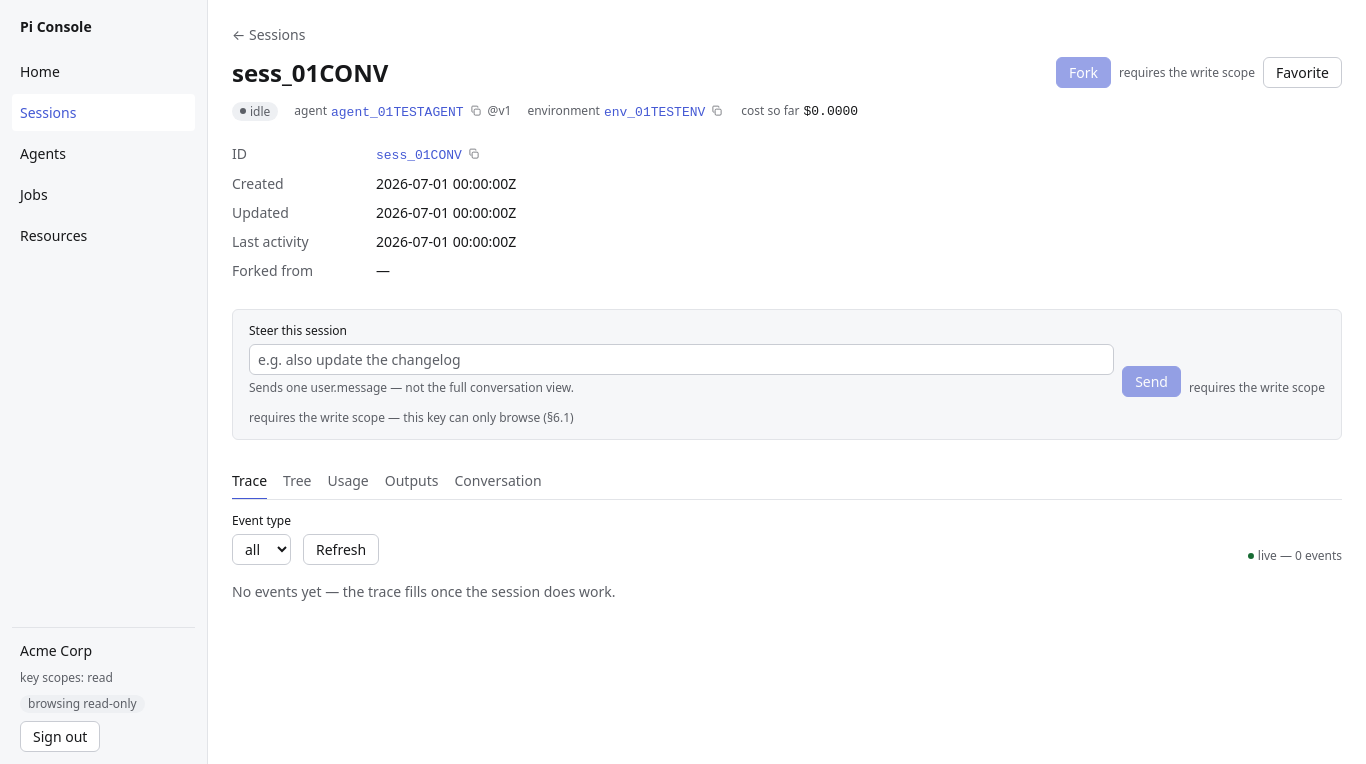
empty and edge states › long transcripts start at the tail with a show-all control
Expected: the element named "Session detail" is shown, left=232, top=464, right=1342, bottom=500
Click the tab "Conversation" at {"x": 498, "y": 482}, box left=454, top=464, right=542, bottom=500
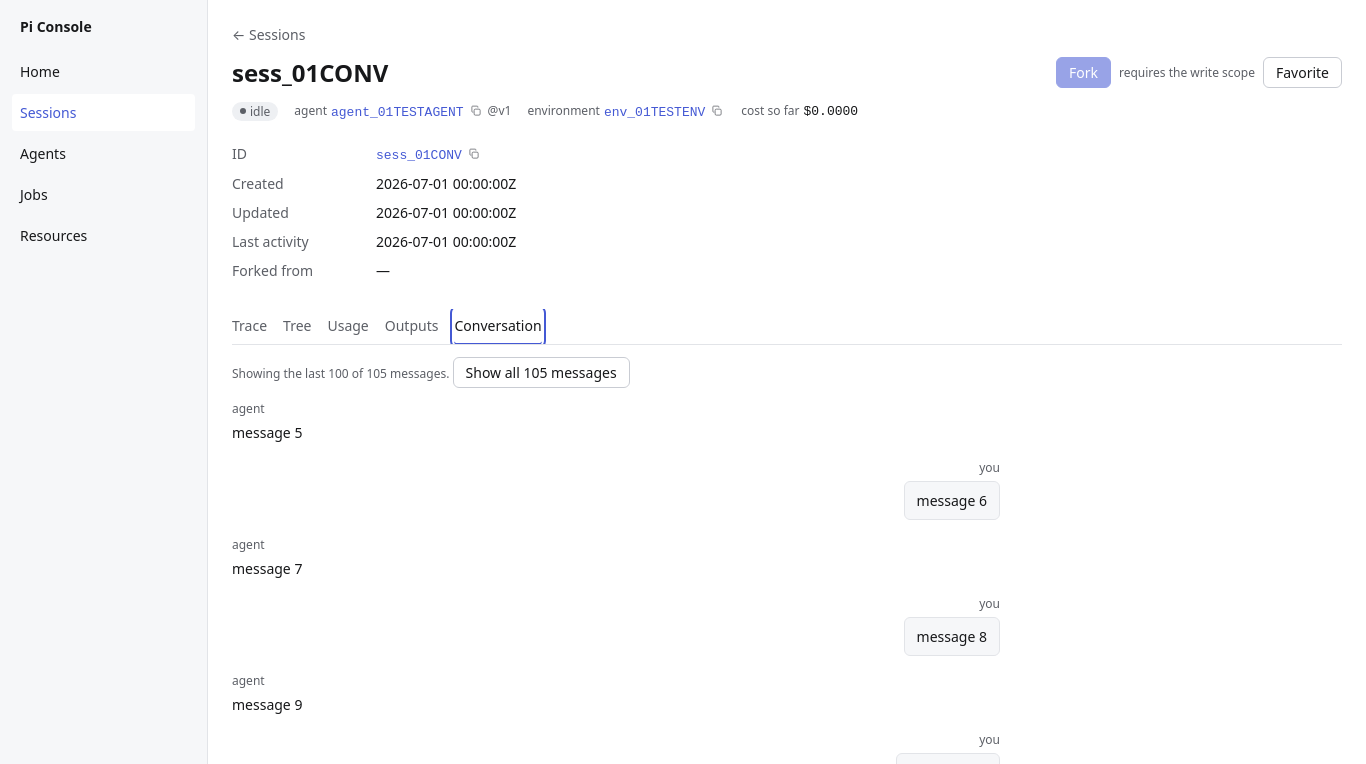
Expected: the text "message 0" is not shown
Click the button "Show all 105 messages" at {"x": 541, "y": 373}, box left=453, top=357, right=630, bottom=388
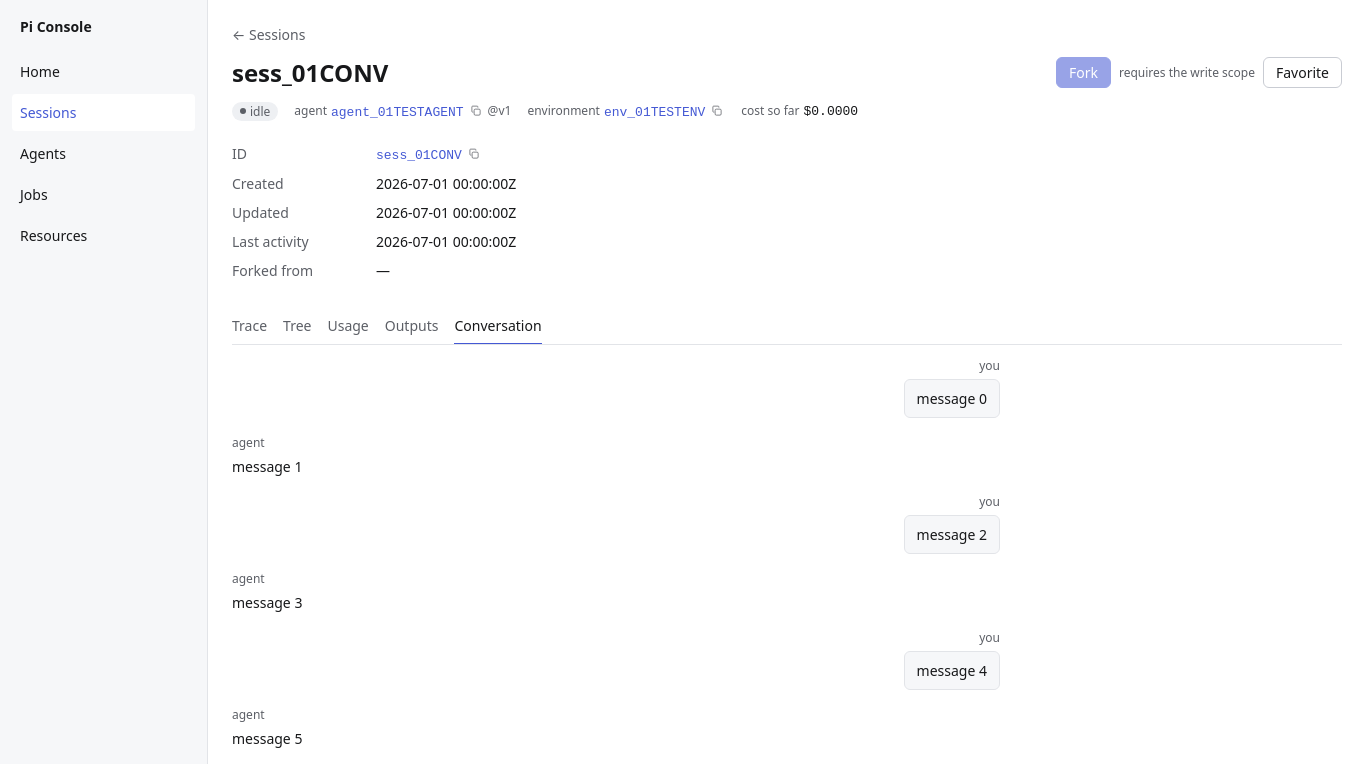
Now the text "message 0" is shown, box left=917, top=388, right=987, bottom=409
